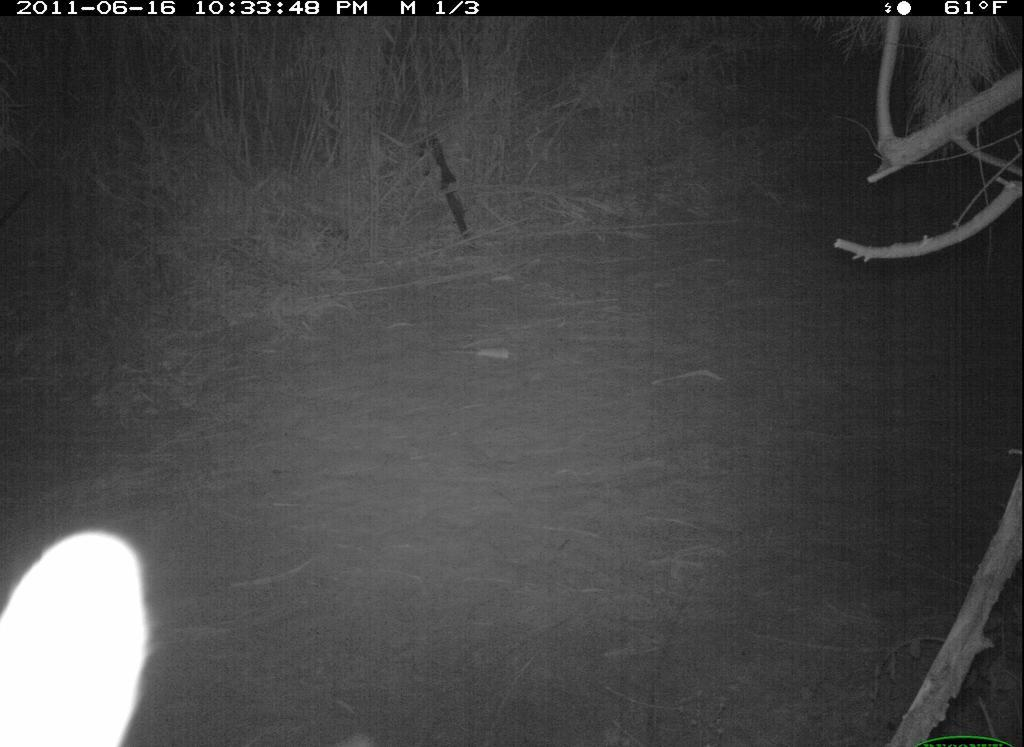raccoon: (1, 532, 159, 747)
